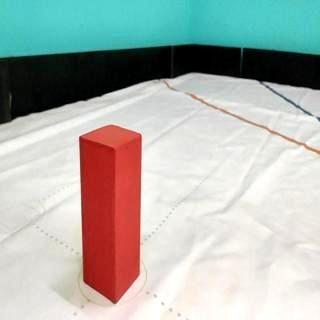redbox: (78, 122, 142, 304)
